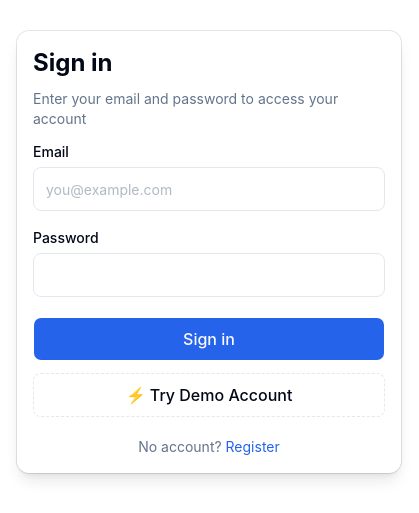
Test: LoginPage › should show validation error for short password
Type "test@example.com" into the field labelled "Email". click: (209, 189)
box: [33,167,385,211]
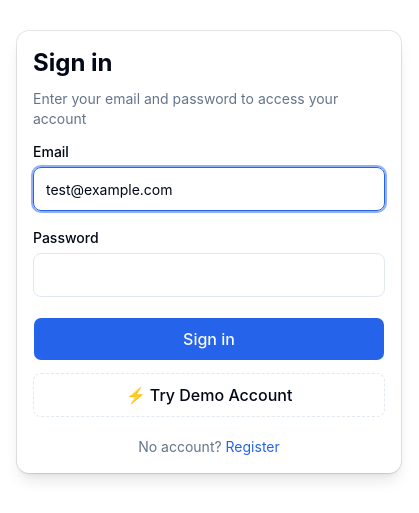
Type "short" into the password field labelled "Password". click: (209, 275)
box: [33,253,385,297]
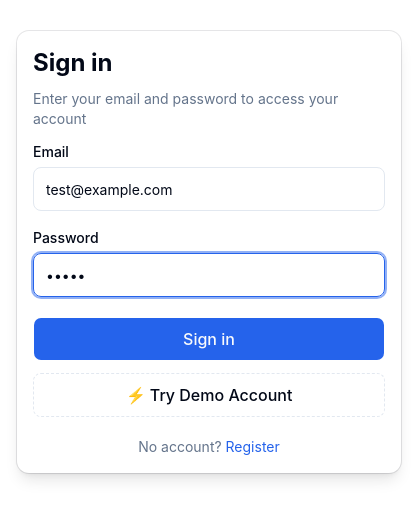
Click the button "Sign in". click: (209, 339)
box: [33,317,385,361]
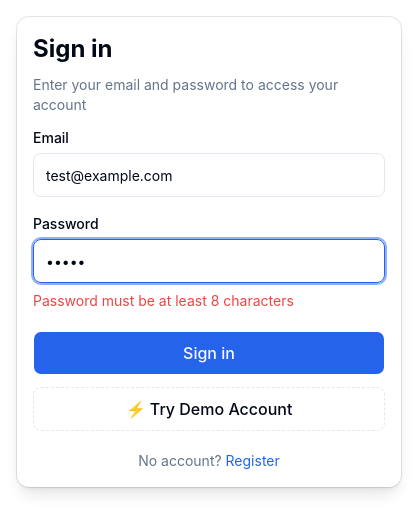
Expected: the text "Password must be at least 8 characters" is shown, [33,292,294,309]
